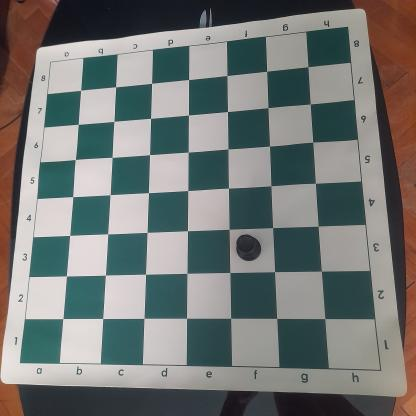black-rook: (235, 233, 264, 263)
